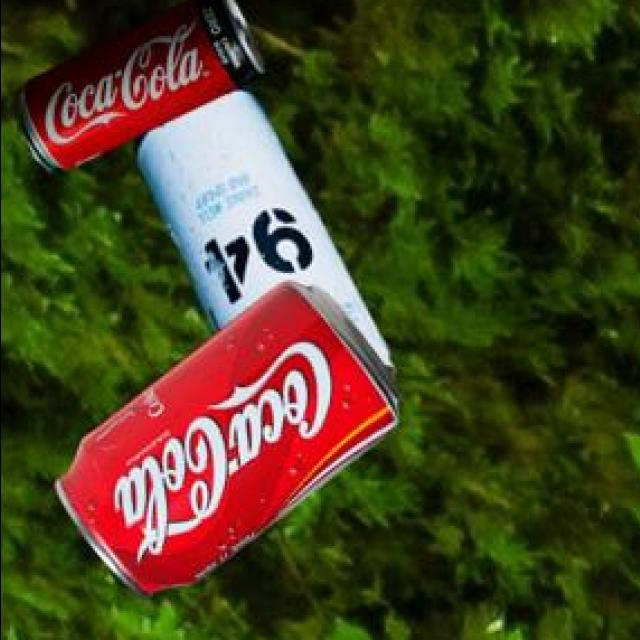logam: (53, 285, 395, 601), (129, 88, 390, 382), (15, 0, 261, 178)
